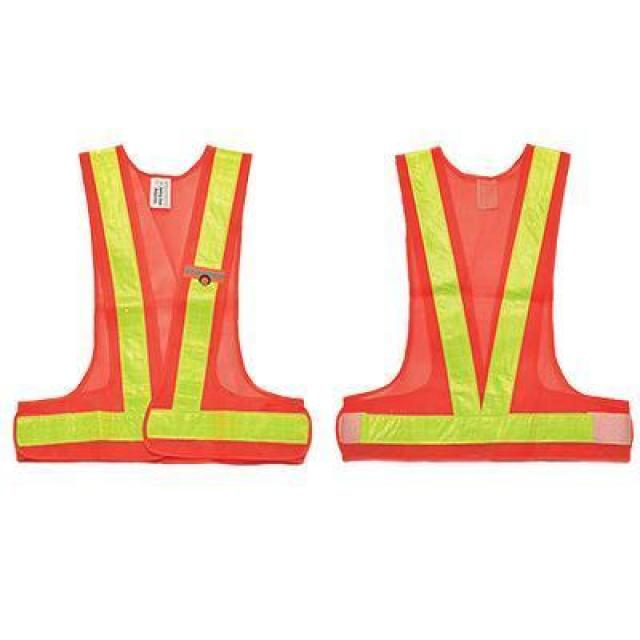Vest: (14, 136, 314, 464), (331, 138, 632, 462)
